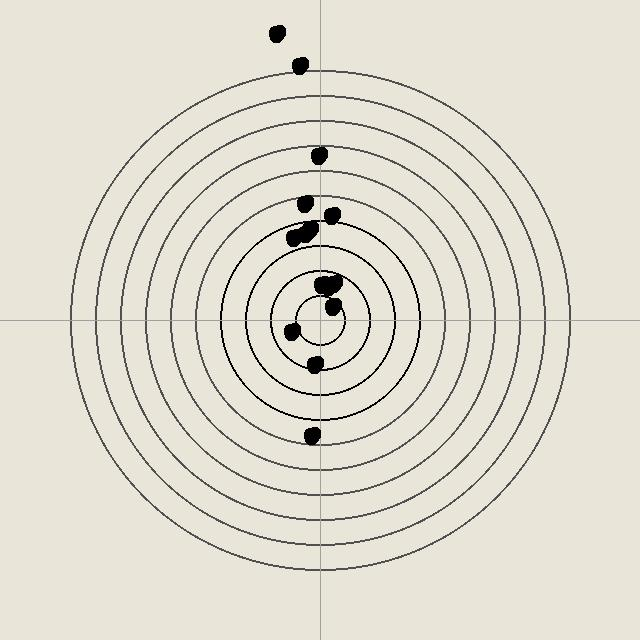vertical_scatter: (299, 219, 319, 239), (318, 276, 338, 296), (301, 425, 321, 445), (266, 23, 286, 43), (295, 223, 315, 243), (289, 55, 309, 75), (322, 296, 342, 316), (308, 145, 328, 165), (281, 321, 301, 341), (321, 205, 341, 225), (311, 274, 331, 294), (283, 227, 303, 247), (294, 193, 314, 213), (323, 273, 343, 293), (304, 354, 324, 374)
